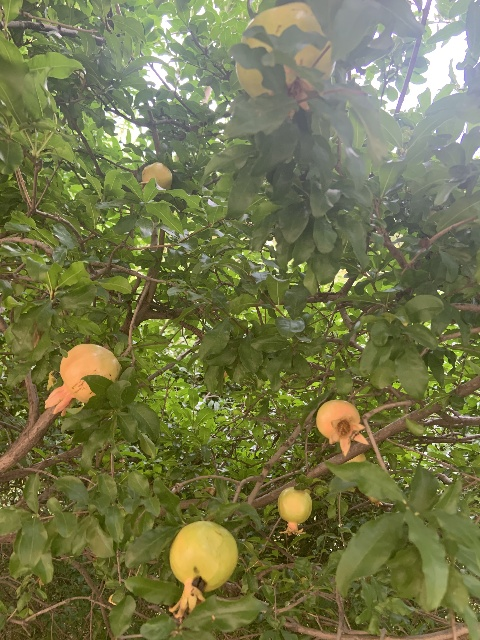early-fruit: (44, 343, 122, 415), (316, 399, 369, 457)
mid-growth: (236, 2, 335, 119), (167, 520, 238, 617), (276, 486, 312, 535), (139, 162, 172, 193)
